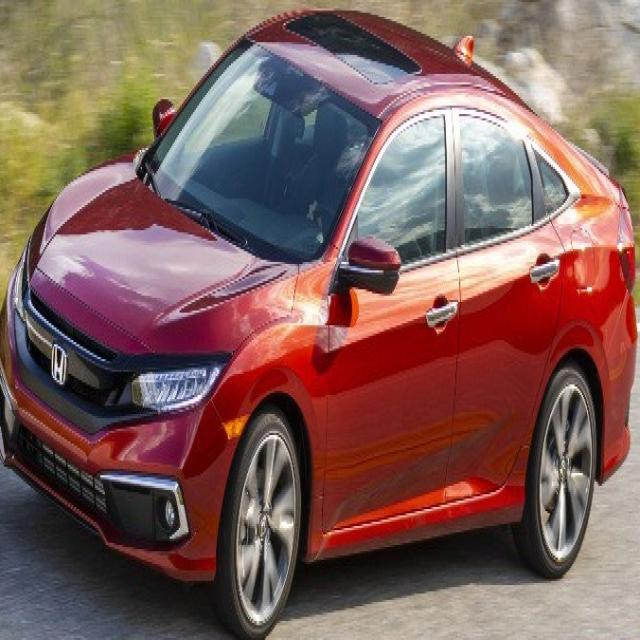maroon: (2, 18, 640, 640)
